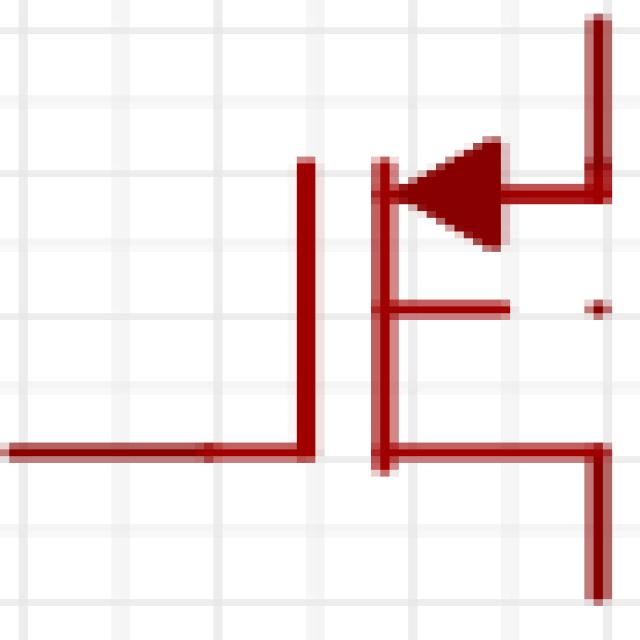pmos: (22, 14, 640, 601)
